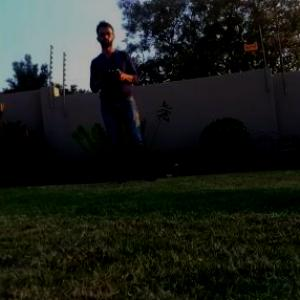follow: (88, 12, 163, 186)
